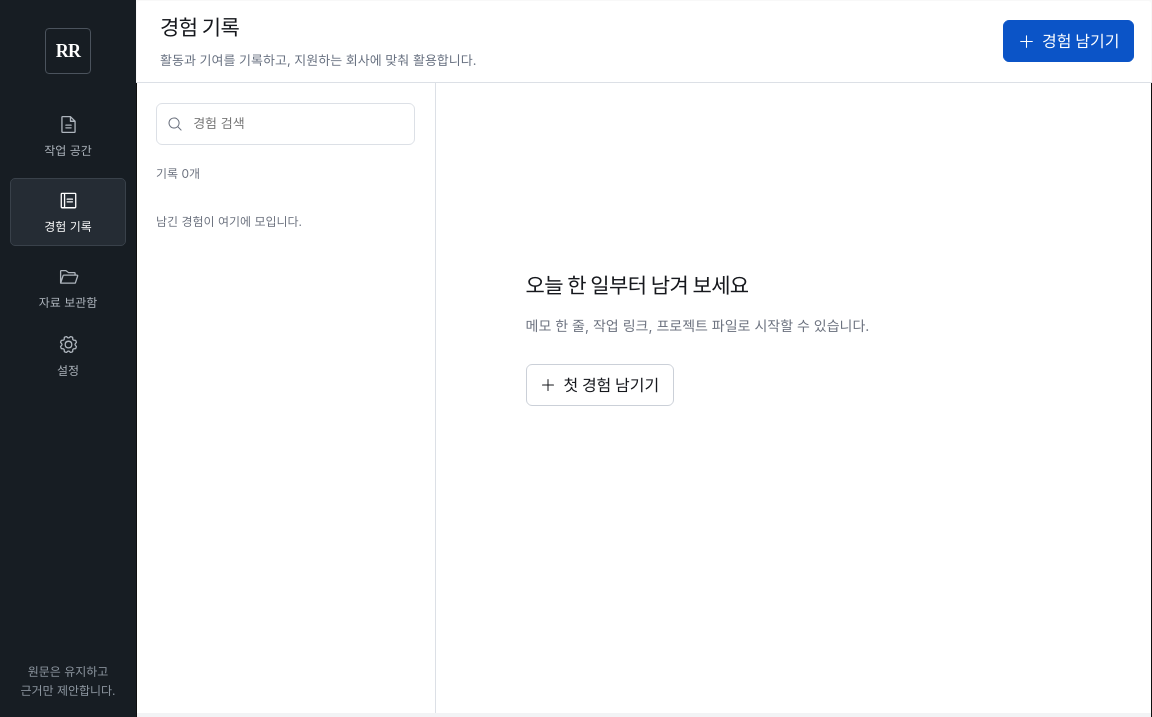
Test: explains supported attachments and Gerrit lookup limitations
Click the button "경험 남기기" at (1069, 41), box [1003,20,1134,62]
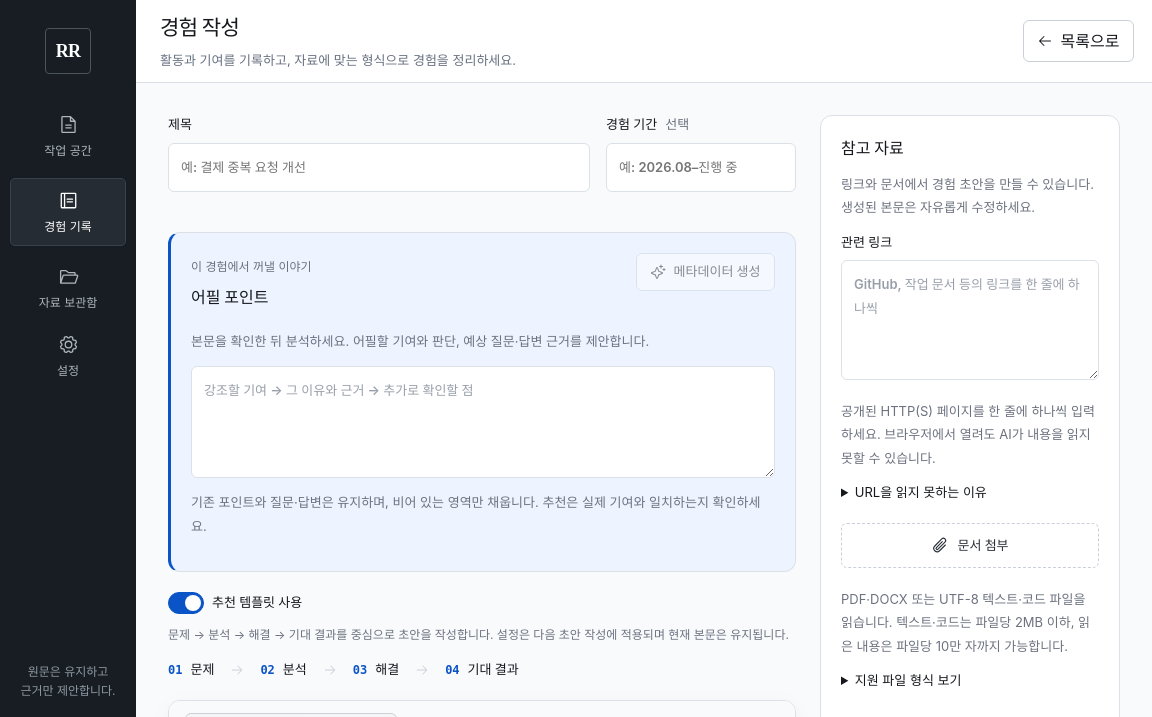
Click the heading "URL을 읽지 못하는 이유" at (921, 492), box [855,484,987,500]
(page scrolled)
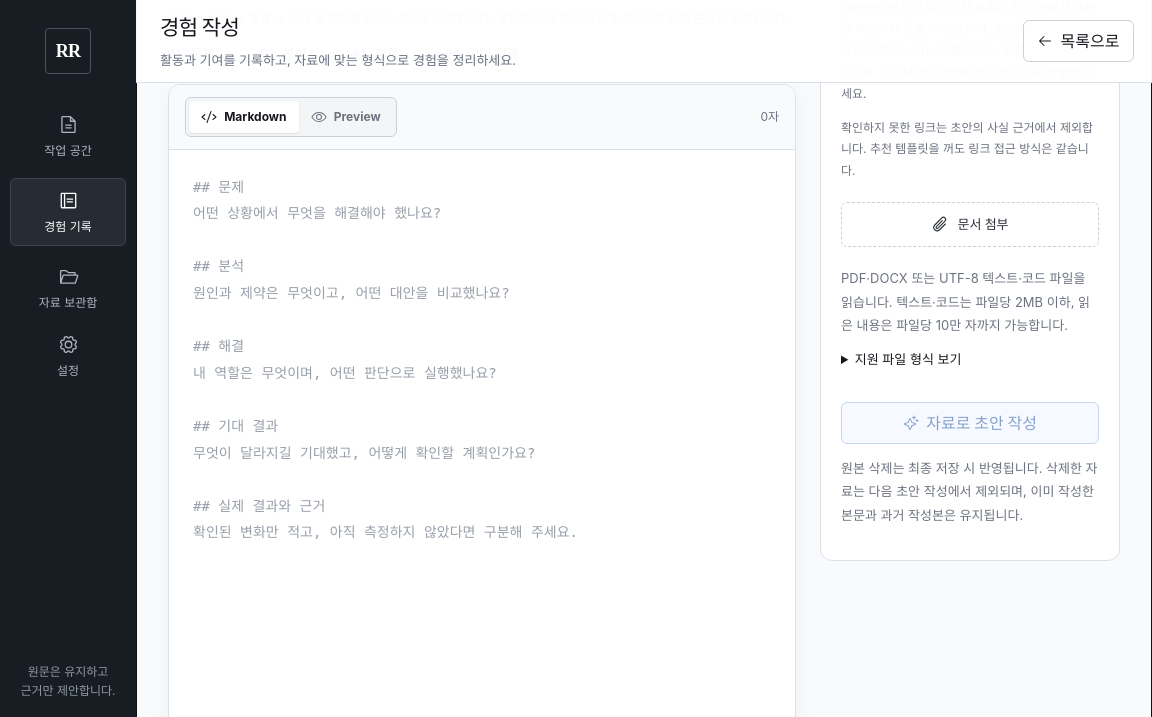
Expected: the text "현재 Gerrit API로 직접 가져오는 기능은 없습니다" is shown, [841,0,1096,101]
Expected: the text "확인하지 못한 링크는 초안의 사실 근거에서 제외합니다. 추천 템플릿을 꺼도 링크 접근 방식은 같습니다." is shown, [841,117,1099,182]
Click the heading "지원 파일 형식 보기" at (908, 359), box [855,351,962,367]
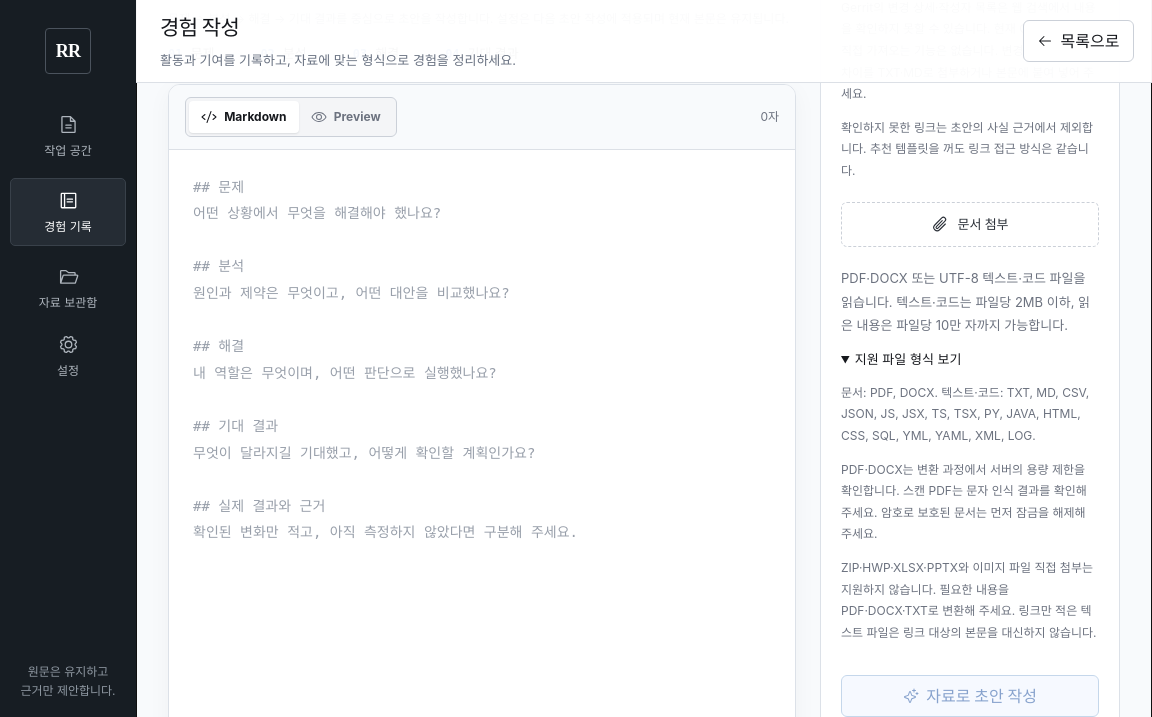
Expected: the text "ZIP·HWP·XLSX·PPTX와 이미지 파일 직접 첨부는 지원하지 않습니다" is shown, [841,560,1097,640]
